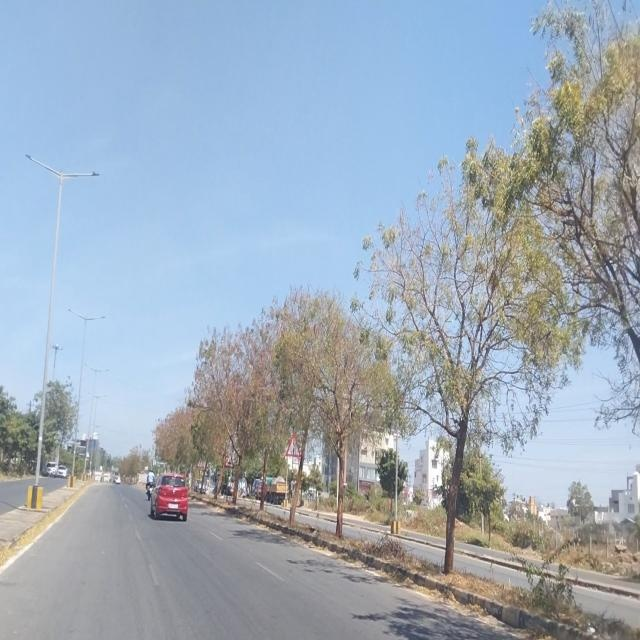bien_nguy_hiem: (286, 431, 302, 456), (224, 451, 234, 468)
